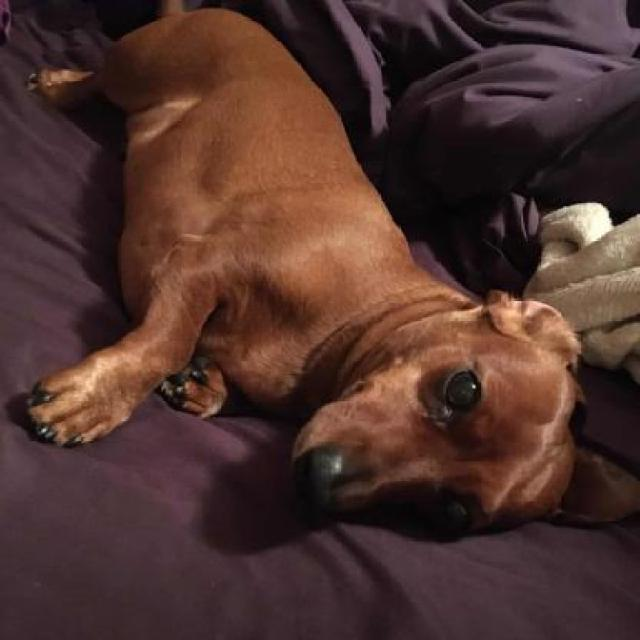Dog: (20, 8, 628, 543)
